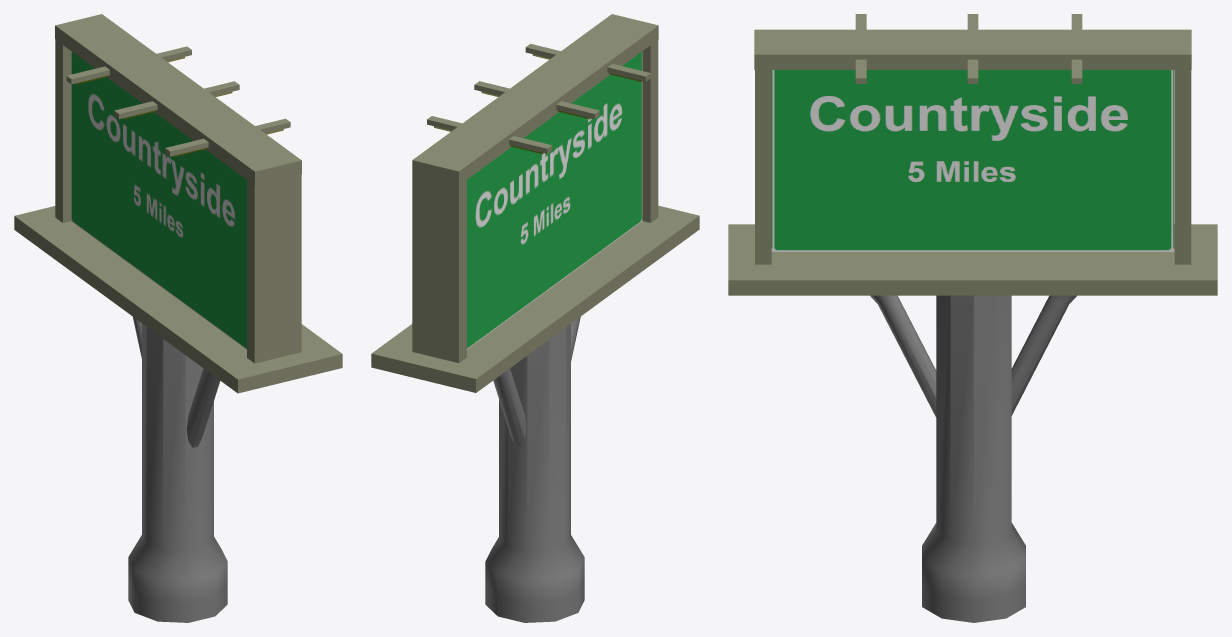
File: Prop_HighwaySign_Mod.fbx
The picture shows the model from 3 angles, left to right: view 1: azimuth 30°, elevation 25°; view 2: azimuth 150°, elevation 25°; view 3: azimuth 270°, elevation 25°; orthographic projection. The views are drawn at different scales.
Visible parts, largest first — view 1: Billboard; view 2: Billboard; view 3: Billboard.
Boxes of the visible parts, x1,y1,x2,y2 form: Billboard: [14, 14, 342, 622]; Billboard: [371, 14, 699, 622]; Billboard: [728, 14, 1217, 622].
Size of the model in its own units: 3.83 by 15.48 by 12.31.
